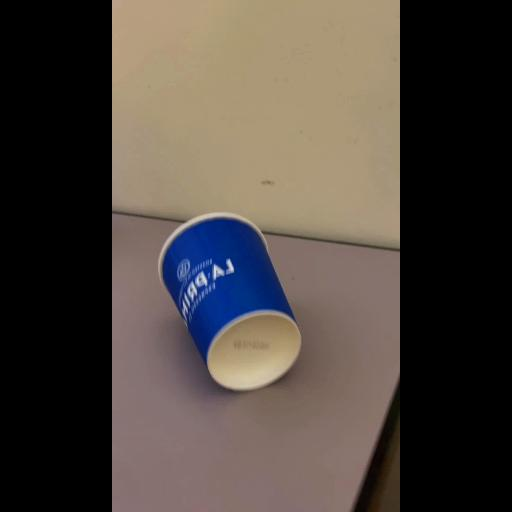lp_paper_cup: (155, 212, 305, 390)
